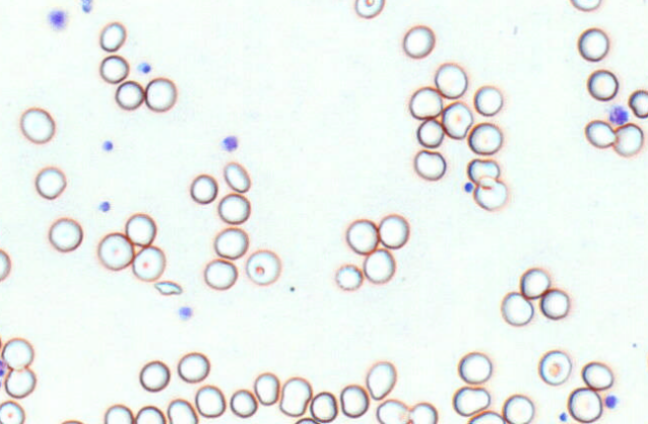PLT: (46, 7, 69, 31), (607, 107, 630, 124), (222, 134, 240, 152), (78, 0, 96, 14), (136, 60, 151, 74), (178, 306, 193, 320), (101, 139, 115, 152), (556, 411, 570, 423), (98, 200, 111, 212), (606, 395, 617, 407), (463, 181, 473, 194)
RBC: (97, 232, 134, 270), (19, 106, 55, 143), (279, 376, 311, 417), (245, 249, 281, 285), (48, 216, 83, 252), (567, 387, 602, 422), (441, 101, 473, 139), (366, 360, 396, 400), (467, 121, 502, 155), (132, 245, 165, 281), (538, 349, 571, 385), (345, 218, 378, 254), (434, 62, 467, 98), (452, 385, 490, 416), (473, 176, 507, 210), (500, 291, 533, 326), (213, 226, 248, 259), (457, 351, 492, 384), (363, 248, 395, 284), (144, 76, 176, 112), (408, 86, 442, 119), (402, 24, 435, 58), (378, 213, 409, 249), (612, 122, 644, 156), (203, 258, 237, 290), (577, 27, 609, 61), (1, 337, 33, 370), (177, 351, 210, 383), (217, 192, 250, 224), (194, 384, 225, 418), (125, 212, 156, 246), (35, 165, 66, 199), (586, 69, 618, 101), (139, 359, 170, 392), (413, 149, 446, 180), (339, 384, 369, 418), (4, 367, 36, 398), (581, 360, 613, 390), (520, 267, 549, 299), (502, 394, 534, 423), (584, 119, 615, 148), (540, 288, 569, 319), (473, 85, 502, 116), (467, 157, 500, 184), (115, 80, 144, 110), (99, 54, 129, 83), (309, 391, 337, 422), (253, 372, 279, 405), (376, 398, 410, 423), (229, 388, 257, 418), (416, 118, 444, 148), (223, 161, 250, 192), (190, 173, 217, 204), (334, 263, 363, 291), (99, 21, 126, 51), (166, 398, 197, 423), (408, 401, 437, 423), (628, 89, 648, 118), (0, 400, 25, 423), (103, 404, 133, 423), (135, 405, 165, 423), (354, 0, 384, 18), (467, 410, 505, 423), (0, 248, 11, 281), (569, 0, 601, 11), (294, 417, 318, 423), (60, 419, 84, 424), (645, 346, 648, 376)
Schistocyte: (154, 280, 182, 296)
